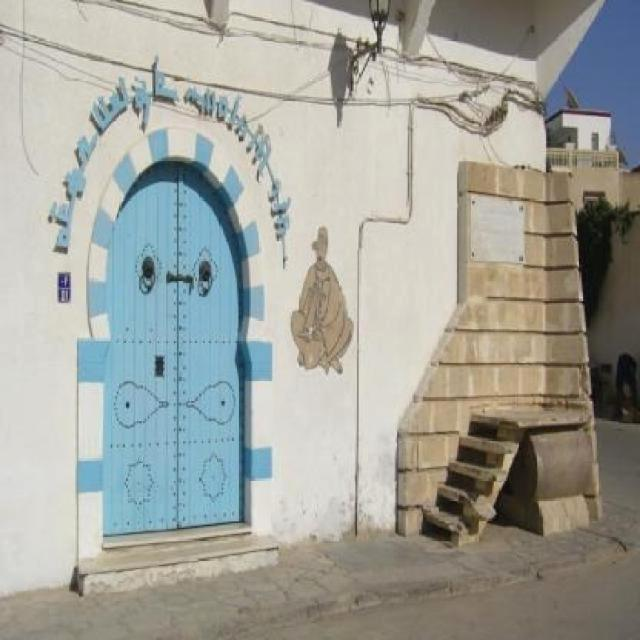stair: (420, 410, 526, 548)
